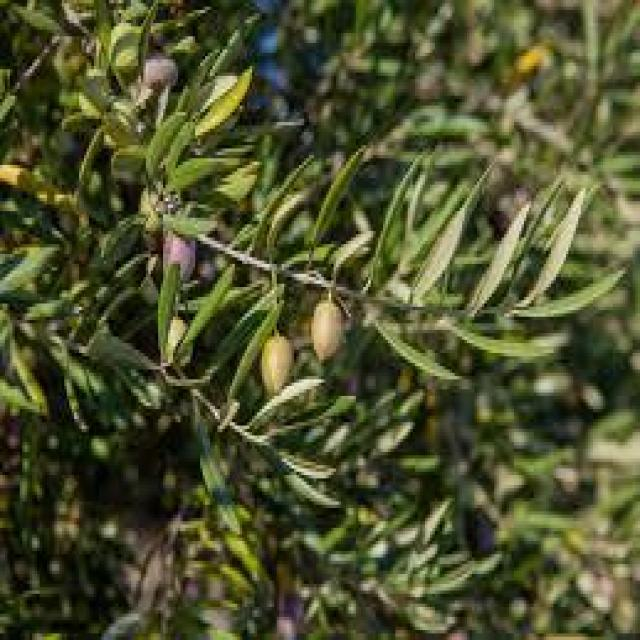Healthy: (259, 333, 292, 393), (311, 300, 343, 356)
